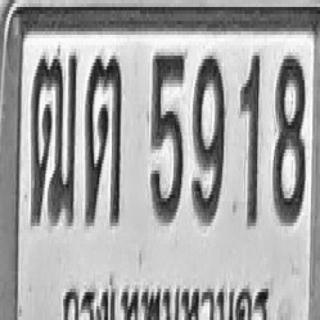A18: (30, 52, 77, 226)
A21: (84, 54, 121, 225)
N01: (239, 52, 260, 226)
N05: (150, 51, 184, 224)
N08: (273, 52, 305, 223)
N09: (192, 52, 225, 223)
